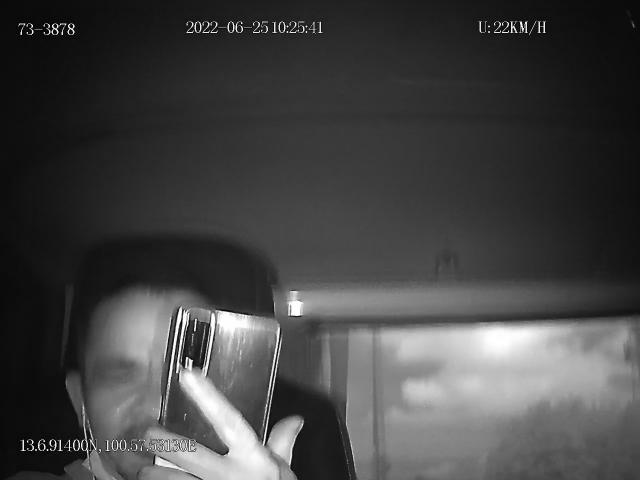Phone: (152, 304, 282, 480)
